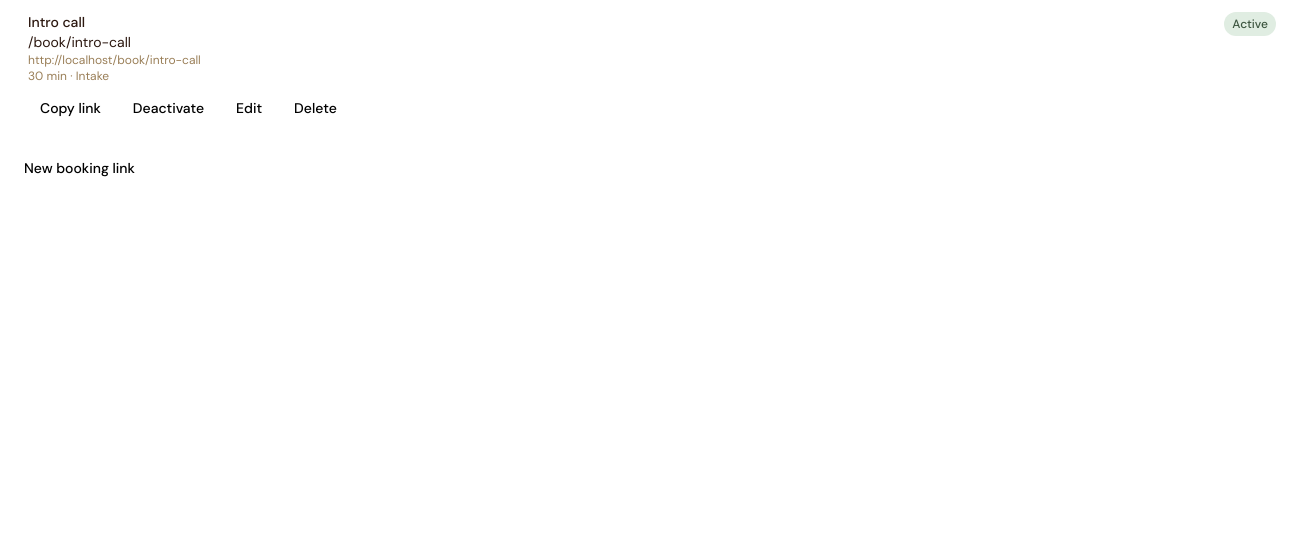
Test case: BookingLinkSettings › swaps a row for the edit form when Edit is clicked
Click the button "Edit".
click(249, 108)  # box x1=224 y1=92 x2=274 y2=124
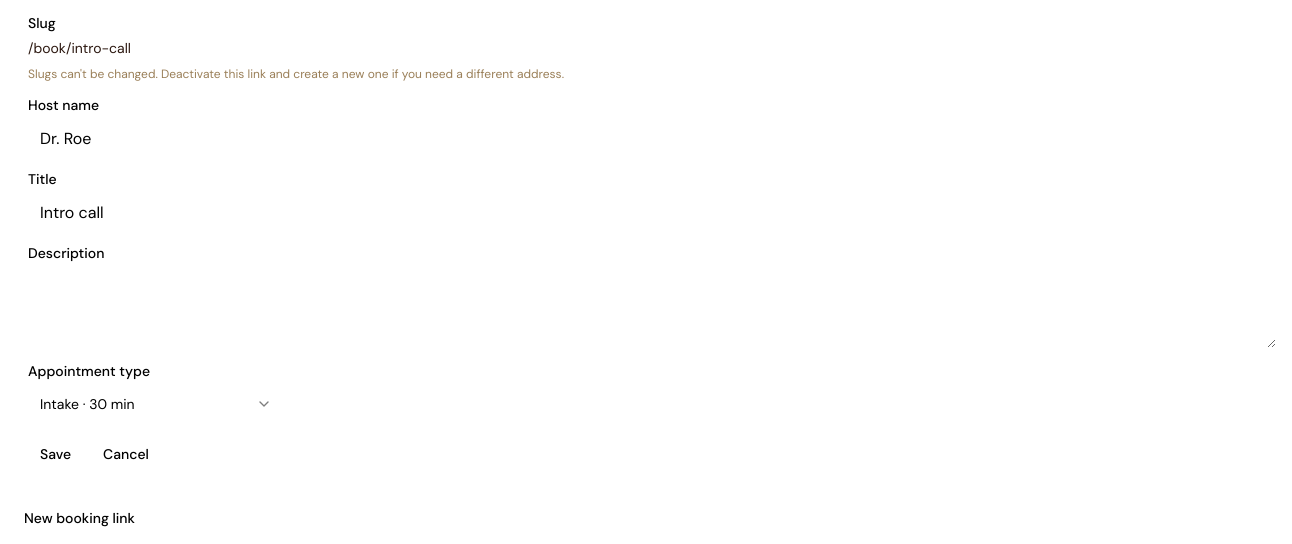
Expected: the field labelled "Host name" holds "Dr. Roe", x1=28 y1=120 x2=1276 y2=156
Expected: the button "Edit" is gone
